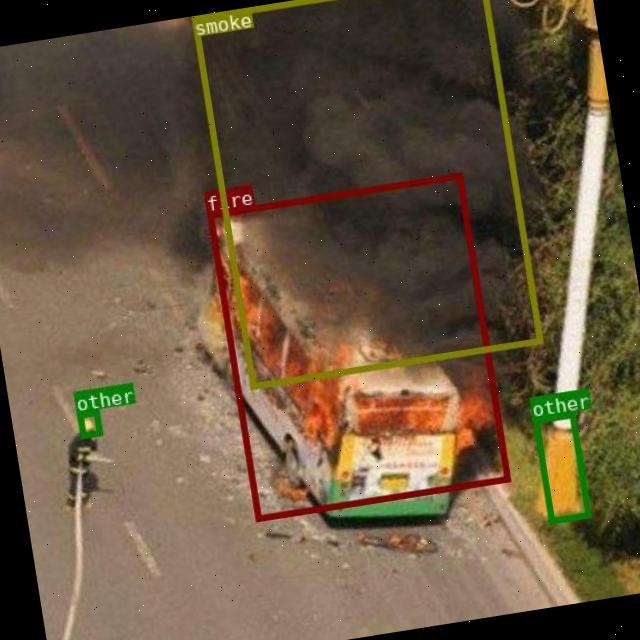fire: (207, 172, 510, 521)
smoke: (191, 0, 542, 388)
